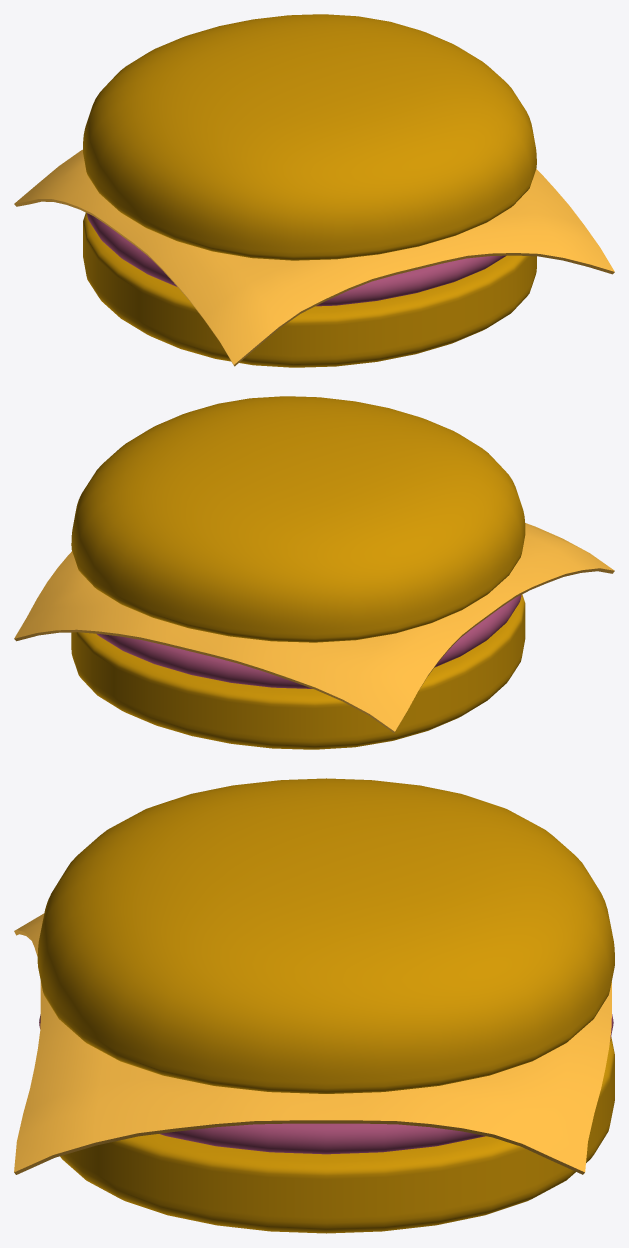
The model's file is hamburger.glb.
3 views of the same model, one above another, from view 1: azimuth 30°, elevation 25°; view 2: azimuth 150°, elevation 25°; view 3: azimuth 270°, elevation 25° (orthographic). The views are drawn at different scales.
Visible parts, largest first — view 1: Cube.002, Plane, Cube, Cube.001; view 2: Cube.002, Plane, Cube, Cube.001; view 3: Cube.002, Plane, Cube, Cube.001.
Part boxes in pixels (left/top/right/bottom): Cube.002: left=83, top=14, right=536, bottom=260; Plane: left=14, top=149, right=614, bottom=366; Cube: left=83, top=213, right=536, bottom=367; Cube.001: left=87, top=213, right=506, bottom=306; Cube.002: left=71, top=396, right=525, bottom=642; Plane: left=14, top=523, right=614, bottom=732; Cube: left=71, top=594, right=525, bottom=749; Cube.001: left=96, top=595, right=521, bottom=688; Cube.002: left=37, top=778, right=614, bottom=1093; Plane: left=14, top=913, right=611, bottom=1174; Cube: left=60, top=1036, right=614, bottom=1233; Cube.001: left=39, top=1014, right=613, bottom=1154.
Bounding box in the file's own units: 9.24 × 5.09 × 9.53.
